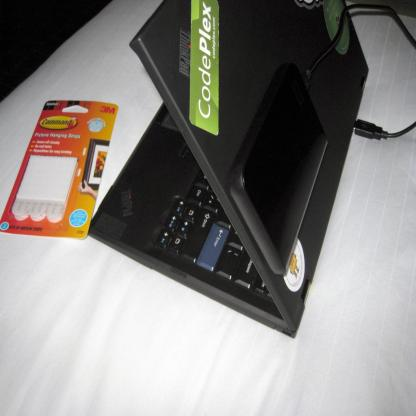board: (91, 0, 369, 339)
